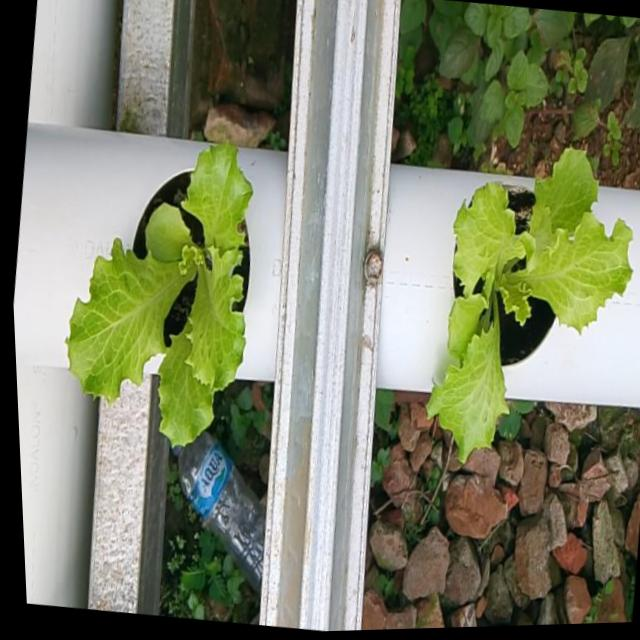Baby: (430, 147, 637, 461), (69, 141, 257, 448)
